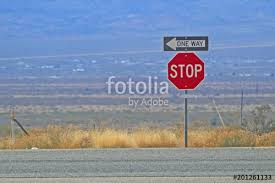Stop: (158, 47, 210, 97)
